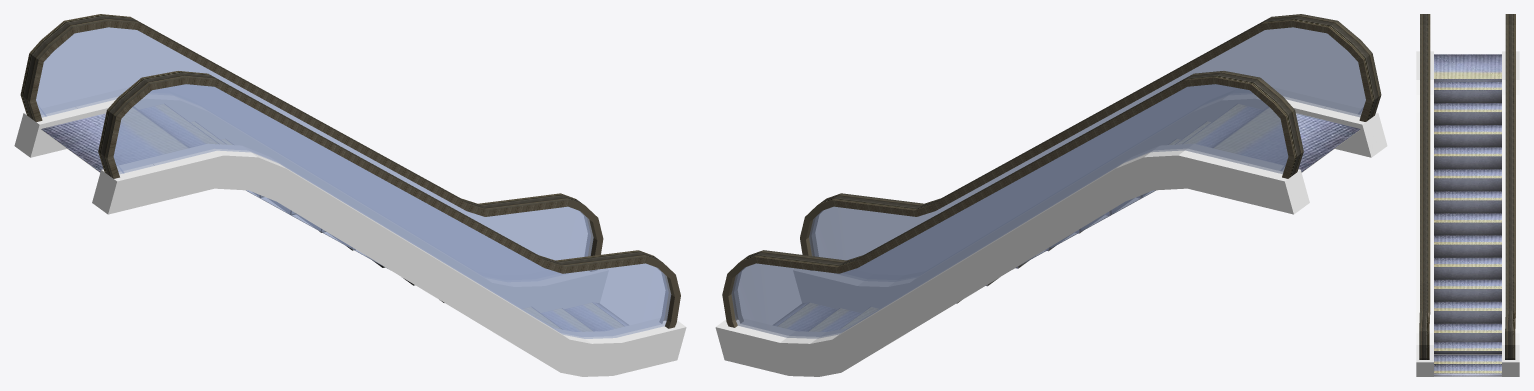
File: new_escalator.glb
3 renders of one model, left to right at view 1: azimuth 30°, elevation 25°; view 2: azimuth 150°, elevation 25°; view 3: azimuth 270°, elevation 25°, orthographic. The views are drawn at different scales.
Parts seen in each view (by area): view 1: Plane.001, Plane.002, Plane; view 2: Plane.001, Plane.002, Plane; view 3: Plane, Plane.001, Plane.002.
Boxes of the visible parts, <box> form: Plane.001: <box>20,14,680,338</box>; Plane.002: <box>14,88,686,376</box>; Plane: <box>41,104,627,331</box>; Plane.001: <box>722,14,1381,338</box>; Plane.002: <box>715,88,1387,376</box>; Plane: <box>774,104,1360,331</box>; Plane: <box>1434,54,1501,376</box>; Plane.001: <box>1419,14,1515,359</box>; Plane.002: <box>1416,51,1519,376</box>.
Bounding box in the file's own units: 5.55 × 3.68 × 1.56.
5 materials, 3 textured.
